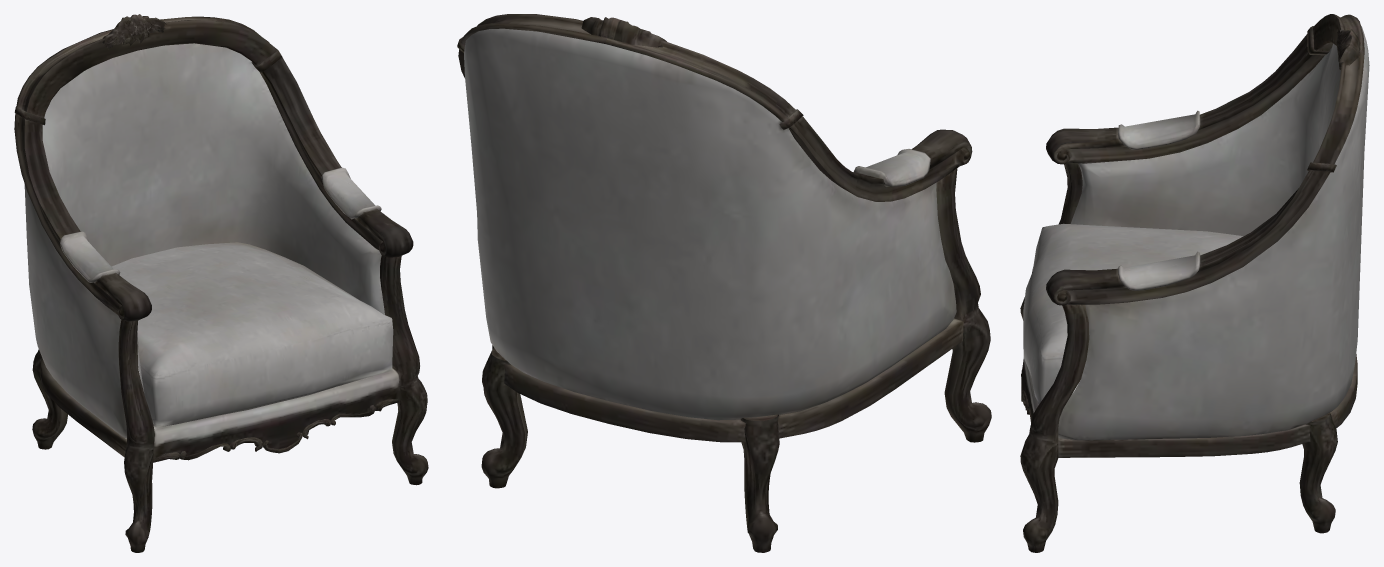
File: armchair.glb
3 views of the same model, side by side, from view 1: azimuth 30°, elevation 25°; view 2: azimuth 150°, elevation 25°; view 3: azimuth 270°, elevation 25° (orthographic). The views are drawn at different scales.
Parts seen in each view (by area): view 1: ArmChair_01; view 2: ArmChair_01; view 3: ArmChair_01.
Boxes of the visible parts, bbox=[...] form: ArmChair_01: bbox=[14, 14, 428, 552]; ArmChair_01: bbox=[457, 14, 991, 552]; ArmChair_01: bbox=[1020, 14, 1369, 552].
Size of the model in its own units: 0.8483 by 1.06 by 0.7658.
1 material, 1 textured.
